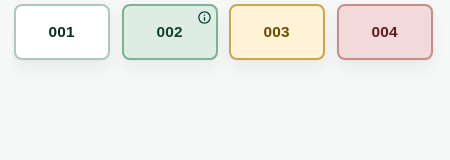
Componente <GrelhaRifas /> › Deve diferenciar rifa paga como ação de detalhes
Expected: the icon with test id "rifa-002-detalhes-icon" is shown, x1=196 y1=10 x2=211 y2=25
Hover over the button named "Rifa 002 paga, clique para ver detalhes".
mouse_move(169, 32)  # box x1=122 y1=4 x2=217 y2=60
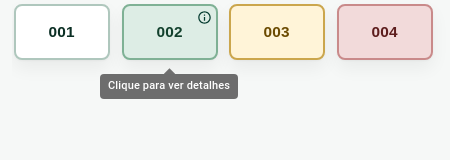
Expected: the text "Clique para ver detalhes" is shown, x1=100 y1=74 x2=238 y2=98
